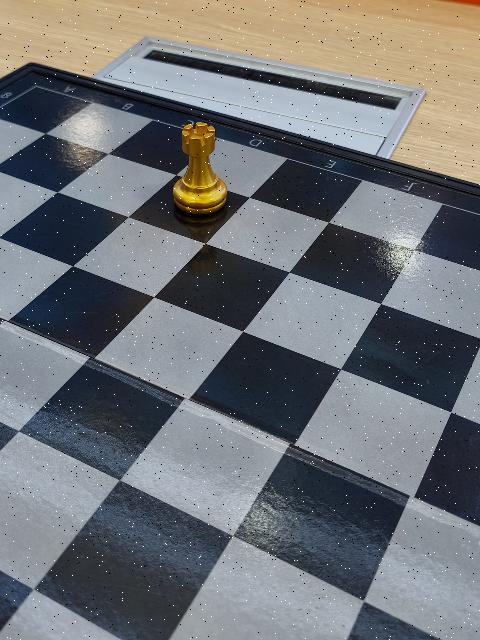black_rook: (171, 120, 231, 217)
